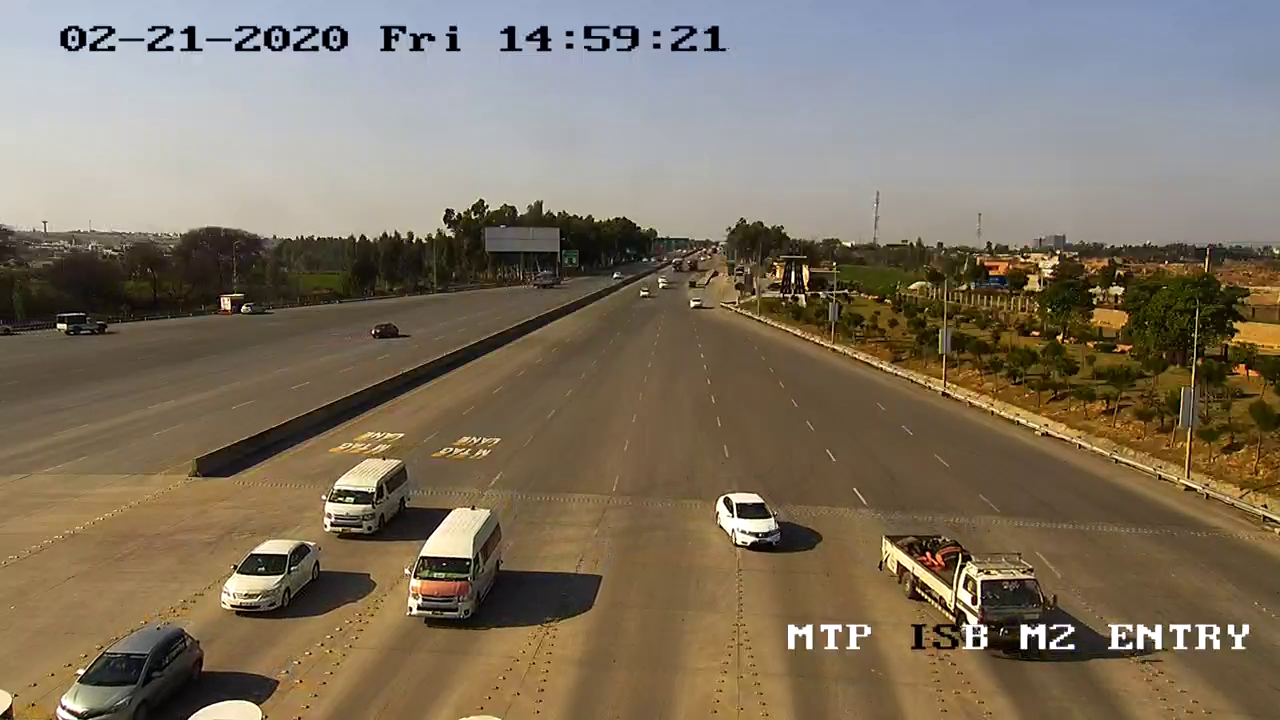f1: (43, 617, 212, 720), (206, 528, 328, 620), (706, 483, 799, 558)
f3: (395, 501, 508, 632), (312, 452, 419, 540)
